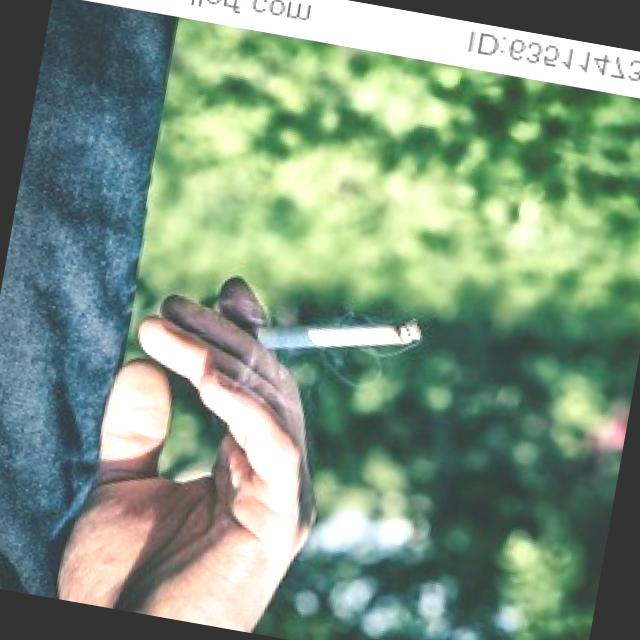smoke: (272, 280, 442, 382)
